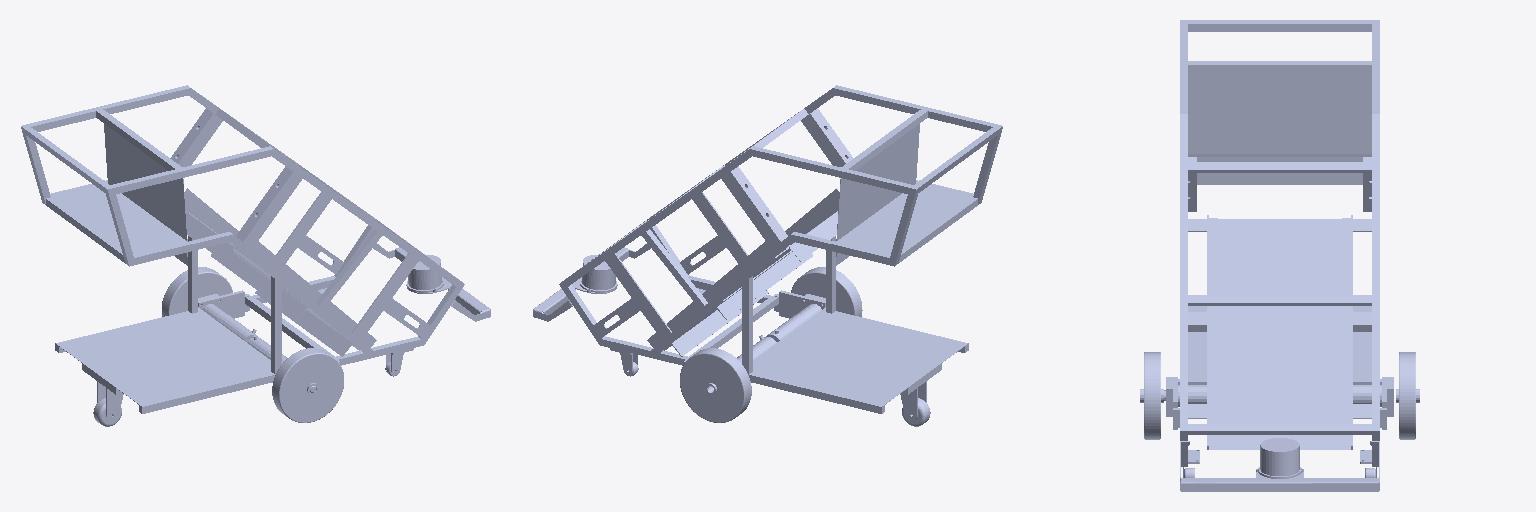
robot.urdf — DCMachine_ChassisAssy2:
<?xml version="1.0" encoding="utf-8"?>
<!-- This URDF was automatically created by SolidWorks to URDF Exporter! Originally created by [author] ([email redacted]) 
     Commit Version: 1.6.0-4-g7f85cfe  Build Version: 1.6.7995.38578
     For more information, please see http://wiki.ros.org/sw_urdf_exporter -->
<robot
  name="DCMachine_ChassisAssy2">
  <!-- Define the center of the main robot chassis projected on the ground -->	
  <link name="base_footprint"/>
  
  <link
    name="base_link"><!-- name="Chassis2"> -->
    <inertial>
      <origin
        xyz="-0.0394144455978167 -0.000852095569377779 0.243871805092808"
        rpy="0 0 0" />
      <mass
        value="8.8576262185832" />
      <inertia
        ixx="0.617051233750544"
        ixy="-2.10490036663428E-05"
        ixz="0.158174809864285"
        iyy="0.892390477879212"
        iyz="2.69481890395974E-05"
        izz="0.755671696026969" />
    </inertial>
    <visual>
      <origin
        xyz="0 0 0"
        rpy="0 0 0" />
      <geometry>
        <mesh
          filename="package://suru_v1_0/meshes/Chassis2.STL" />
      </geometry>
      <material
        name="">
        <color
          rgba="0.796078431372549 0.823529411764706 0.937254901960784 1" />
      </material>
    </visual>
    <collision>
      <origin
        xyz="0 0 0"
        rpy="0 0 0" />
      <geometry>
        <mesh
          filename="package://suru_v1_0/meshes/Chassis2.STL" />
      </geometry>
    </collision>
  </link>
  <joint 
    name="base_joint" 
    type="fixed">
    <parent 
      link="base_footprint"/>
    <child 
      link="base_link" />
    <origin 
      xyz="0.0 0.0 0.0"
      rpy="0 0 0"/>
  </joint>
  <link
    name="BackCastorBkt">
    <inertial>
      <origin
        xyz="-0.020171 -7.7009E-17 -0.037604"
        rpy="0 0 0" />
      <mass
        value="0.038797" />
      <inertia
        ixx="5.6327E-05"
        ixy="-1.6026E-20"
        ixz="-6.8167E-06"
        iyy="5.0448E-05"
        iyz="-1.3304E-20"
        izz="2.9319E-05" />
    </inertial>
    <visual>
      <origin
        xyz="0 0 0"
        rpy="0 0 0" />
      <geometry>
        <mesh
          filename="package://suru_v1_0/meshes/BackCastorBkt.STL" />
      </geometry>
      <material
        name="">
        <color
          rgba="0.79608 0.82353 0.93725 1" />
      </material>
    </visual>
    <collision>
      <origin
        xyz="0 0 0"
        rpy="0 0 0" />
      <geometry>
        <mesh
          filename="package://suru_v1_0/meshes/BackCastorBkt.STL" />
      </geometry>
    </collision>
  </link>
  <joint
    name="BackWheelBkt"
    type="fixed"><!-- type="continuous"> -->
    <origin
      xyz="-0.4125 0 0.001"
      rpy="0 0 0" />
    <parent
      link="base_link" />
    <child
      link="BackCastorBkt" />
    <axis
      xyz="0 0 1" />
    <!-- <limit
      effort="10"
      velocity="10" />
    <dynamics
      damping="0.1"
      friction="0.1" /> -->
  </joint>
  <link
    name="BackCastor">
    <inertial>
      <origin
        xyz="5.5511E-17 3.4694E-18 -0.02"
        rpy="0 0 0" />
      <mass
        value="0.1562" />
      <inertia
        ixx="6.9409E-05"
        ixy="1.6844E-08"
        ixz="-4.565E-22"
        iyy="6.9452E-05"
        iyz="-7.6894E-22"
        izz="0.00010061" />
    </inertial>
    <visual>
      <origin
        xyz="0 0 0"
        rpy="0 0 0" />
      <geometry>
        <mesh
          filename="package://suru_v1_0/meshes/BackCastor.STL" />
      </geometry>
      <material
        name="">
        <color
          rgba="0.79608 0.82353 0.93725 1" />
      </material>
    </visual>
    <collision>
      <origin
        xyz="0 0 0"
        rpy="0 0 0" />
      <geometry>
        <mesh
          filename="package://suru_v1_0/meshes/BackCastor.STL" />
      </geometry>
    </collision>
  </link>
  <joint
    name="BackWheel"
    type="fixed"><!-- type="continuous"> -->
    <origin
      xyz="-0.0305 -0.02 -0.0935"
      rpy="1.5708 0 0" />
    <parent
      link="BackCastorBkt" />
    <child
      link="BackCastor" />
    <axis
      xyz="0 0 -1" />
    <!-- <limit
      effort="10"
      velocity="10" />
    <dynamics
      damping="0.1"
      friction="0.1" /> -->
  </joint>
  <link
    name="LeftDriveWheel">
    <inertial>
      <origin
        xyz="6.9389E-18 -2.7756E-17 0.0275"
        rpy="0 0 0" />
      <mass
        value="1.2472" />
      <inertia
        ixx="0.0032987"
        ixy="1.7618E-19"
        ixz="-3.5891E-19"
        iyy="0.0032987"
        iyz="7.8613E-22"
        izz="0.0062599" />
    </inertial>
    <visual>
      <origin
        xyz="0 0 0"
        rpy="0 0 0" />
      <geometry>
        <mesh
          filename="package://suru_v1_0/meshes/LeftDriveWheel.STL" />
      </geometry>
      <material
        name="">
        <color
          rgba="0.79608 0.82353 0.93725 1" />
      </material>
    </visual>
    <collision>
      <origin
        xyz="0 0 0"
        rpy="0 0 0" />
      <geometry>
        <mesh
          filename="package://suru_v1_0/meshes/LeftDriveWheel.STL" />
      </geometry>
    </collision>
  </link>
  <joint
    name="LDWheel"
    type="continuous">
    <origin
      xyz="0 0.3199 0"
      rpy="1.5708 0 0" />
    <parent
      link="base_link" />
    <child
      link="LeftDriveWheel" />
    <axis
      xyz="0 0 -1" />
    <limit
      effort="10"
      velocity="10" />
    <dynamics
      damping="0.1"
      friction="0.1" />
  </joint>
  <link
    name="RightDriveWheel">
    <inertial>
      <origin
        xyz="-2.0817E-17 -2.7756E-17 -0.0275"
        rpy="0 0 0" />
      <mass
        value="1.2472" />
      <inertia
        ixx="0.0032987"
        ixy="2.4395E-19"
        ixz="2.1555E-20"
        iyy="0.0032987"
        iyz="7.2704E-20"
        izz="0.0062599" />
    </inertial>
    <visual>
      <origin
        xyz="0 0 0"
        rpy="0 0 0" />
      <geometry>
        <mesh
          filename="package://suru_v1_0/meshes/RightDriveWheel.STL" />
      </geometry>
      <material
        name="">
        <color
          rgba="0.79608 0.82353 0.93725 1" />
      </material>
    </visual>
    <collision>
      <origin
        xyz="0 0 0"
        rpy="0 0 0" />
      <geometry>
        <mesh
          filename="package://suru_v1_0/meshes/RightDriveWheel.STL" />
      </geometry>
    </collision>
  </link>
  <joint
    name="RDWheel"
    type="continuous">
    <origin
      xyz="0 -0.32 0"
      rpy="1.5708 0 0" />
    <parent
      link="base_link" />
    <child
      link="RightDriveWheel" />
    <axis
      xyz="0 0 1" />
    <limit
      effort="10"
      velocity="10" />
    <dynamics
      damping="0.1"
      friction="0.1" />
  </joint>
  <link
    name="FrontLeftCastorBkt">
    <inertial>
      <origin
        xyz="-0.01454 -2.7756E-17 -0.024477"
        rpy="0 0 0" />
      <mass
        value="0.0077113" />
      <inertia
        ixx="4.1898E-06"
        ixy="1.9154E-21"
        ixz="-4.3998E-07"
        iyy="3.8052E-06"
        iyz="-4.0431E-21"
        izz="2.1972E-06" />
    </inertial>
    <visual>
      <origin
        xyz="0 0 0"
        rpy="0 0 0" />
      <geometry>
        <mesh
          filename="package://suru_v1_0/meshes/FrontLeftCastorBkt.STL" />
      </geometry>
      <material
        name="">
        <color
          rgba="0.79608 0.82353 0.93725 1" />
      </material>
    </visual>
    <collision>
      <origin
        xyz="0 0 0"
        rpy="0 0 0" />
      <geometry>
        <mesh
          filename="package://suru_v1_0/meshes/FrontLeftCastorBkt.STL" />
      </geometry>
    </collision>
  </link>
  <joint
    name="FLCastorBkt"
    type="fixed"><!-- type="continuous"> -->
    <origin
      xyz="0.3275 0.207 -0.0025"
      rpy="0 0 0" />
    <parent
      link="base_link" />
    <child
      link="FrontLeftCastorBkt" />
    <axis
      xyz="0 0 1" />
    <!-- <limit
      effort="10"
      velocity="10" />
    <dynamics
      damping="0.1"
      friction="0.1" /> -->
  </joint>
  <link
    name="FrontLeftCastor">
    <inertial>
      <origin
        xyz="0 6.9389E-18 0.0125"
        rpy="0 0 0" />
      <mass
        value="0.022649" />
      <inertia
        ixx="2.8628E-06"
        ixy="3.2034E-09"
        ixz="-1.227E-22"
        iyy="2.8638E-06"
        iyz="8.9544E-23"
        izz="3.4876E-06" />
    </inertial>
    <visual>
      <origin
        xyz="0 0 0"
        rpy="0 0 0" />
      <geometry>
        <mesh
          filename="package://suru_v1_0/meshes/FrontLeftCastor.STL" />
      </geometry>
      <material
        name="">
        <color
          rgba="0.79608 0.82353 0.93725 1" />
      </material>
    </visual>
    <collision>
      <origin
        xyz="0 0 0"
        rpy="0 0 0" />
      <geometry>
        <mesh
          filename="package://suru_v1_0/meshes/FrontLeftCastor.STL" />
      </geometry>
    </collision>
  </link>
  <joint
    name="FLCastor"
    type="fixed"><!-- type="continuous"> -->
    <origin
      xyz="-0.02 0.0125 -0.0555"
      rpy="1.5708 0 0" />
    <parent
      link="FrontLeftCastorBkt" />
    <child
      link="FrontLeftCastor" />
    <axis
      xyz="0 0 1" />
    <!-- <limit
      effort="10"
      velocity="10" />
    <dynamics
      damping="0.1"
      friction="0.1" /> -->
  </joint>
  <link
    name="FrontRightCastorBkt">
    <inertial>
      <origin
        xyz="-0.01454 0 -0.024477"
        rpy="0 0 0" />
      <mass
        value="0.0077113" />
      <inertia
        ixx="4.1898E-06"
        ixy="3.5563E-21"
        ixz="-4.3998E-07"
        iyy="3.8052E-06"
        iyz="-1.1338E-21"
        izz="2.1972E-06" />
    </inertial>
    <visual>
      <origin
        xyz="0 0 0"
        rpy="0 0 0" />
      <geometry>
        <mesh
          filename="package://suru_v1_0/meshes/FrontRightCastorBkt.STL" />
      </geometry>
      <material
        name="">
        <color
          rgba="0.79608 0.82353 0.93725 1" />
      </material>
    </visual>
    <collision>
      <origin
        xyz="0 0 0"
        rpy="0 0 0" />
      <geometry>
        <mesh
          filename="package://suru_v1_0/meshes/FrontRightCastorBkt.STL" />
      </geometry>
    </collision>
  </link>
  <joint
    name="FRCastorBkt"
    type="fixed"><!-- type="continuous"> -->
    <origin
      xyz="0.3275 -0.207 -0.0025"
      rpy="0 0 0" />
    <parent
      link="base_link" />
    <child
      link="FrontRightCastorBkt" />
    <axis
      xyz="0 0 1" />
    <!-- <limit
      effort="10"
      velocity="10" />
    <dynamics
      damping="0.1"
      friction="0.1" /> -->
  </joint>
  <link
    name="FrontRightCastor">
    <inertial>
      <origin
        xyz="5.5511E-17 6.9389E-18 -0.0125"
        rpy="0 0 0" />
      <mass
        value="0.022649" />
      <inertia
        ixx="2.8601E-06"
        ixy="-5.785E-10"
        ixz="-9.0247E-22"
        iyy="2.8665E-06"
        iyz="-3.1415E-23"
        izz="3.4876E-06" />
    </inertial>
    <visual>
      <origin
        xyz="0 0 0"
        rpy="0 0 0" />
      <geometry>
        <mesh
          filename="package://suru_v1_0/meshes/FrontRightCastor.STL" />
      </geometry>
      <material
        name="">
        <color
          rgba="0.79608 0.82353 0.93725 1" />
      </material>
    </visual>
    <collision>
      <origin
        xyz="0 0 0"
        rpy="0 0 0" />
      <geometry>
        <mesh
          filename="package://suru_v1_0/meshes/FrontRightCastor.STL" />
      </geometry>
    </collision>
  </link>
  <joint
    name="FRCastor"
    type="fixed"><!-- type="continuous"> -->
    <origin
      xyz="-0.02 -0.0125 -0.0555"
      rpy="1.5708 0 0" />
    <parent
      link="FrontRightCastorBkt" />
    <child
      link="FrontRightCastor" />
    <axis
      xyz="0 0 -1" />
    <!-- <limit
      effort="10"
      velocity="10" />
    <dynamics
      damping="0.1"
      friction="0.1" /> -->
  </joint>
</robot>

--- What the picture shows (computed from the rendered views, not written in the file) ---
Views: 3 orthographic renders of the robot side by side, from view 1: azimuth 30°, elevation 25°; view 2: azimuth 150°, elevation 25°; view 3: azimuth 270°, elevation 25°.
Robot: DCMachine_ChassisAssy2 — 10 links, 9 joints (2 continuous, 7 fixed); root link base_footprint; default pose: all joints at 0.
Visible links, largest first — view 1: base_link, RightDriveWheel, LeftDriveWheel, BackCastorBkt; view 2: base_link, LeftDriveWheel, RightDriveWheel, BackCastorBkt; view 3: base_link, LeftDriveWheel, RightDriveWheel.
Link boxes in pixels (<box>): base_link: <box>21,85,490,413</box>; RightDriveWheel: <box>272,348,343,422</box>; LeftDriveWheel: <box>162,267,232,316</box>; BackCastorBkt: <box>97,381,123,420</box>; base_link: <box>533,85,1002,413</box>; LeftDriveWheel: <box>680,348,751,422</box>; RightDriveWheel: <box>791,267,862,316</box>; BackCastorBkt: <box>900,381,926,420</box>; base_link: <box>1164,20,1393,491</box>; LeftDriveWheel: <box>1396,352,1419,439</box>; RightDriveWheel: <box>1140,352,1163,439</box>.
Bounding box of the posed robot: 1.17 × 0.6399 × 0.8101 m (x, y, z).
Meshes: 9 distinct files referenced, 9 mesh visuals loaded (9 binary STL).